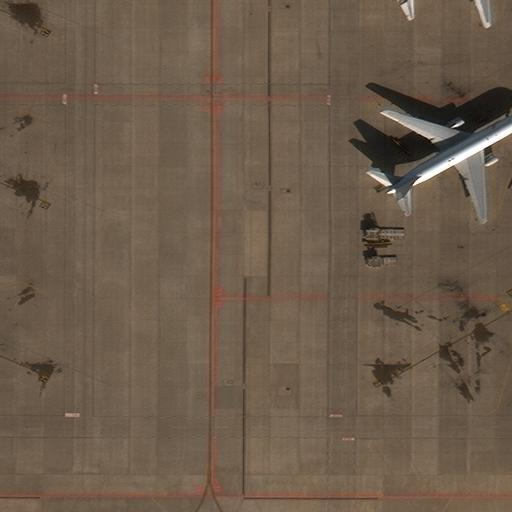Large Civil Transport: (384, 108, 511, 221), (397, 0, 500, 24)
